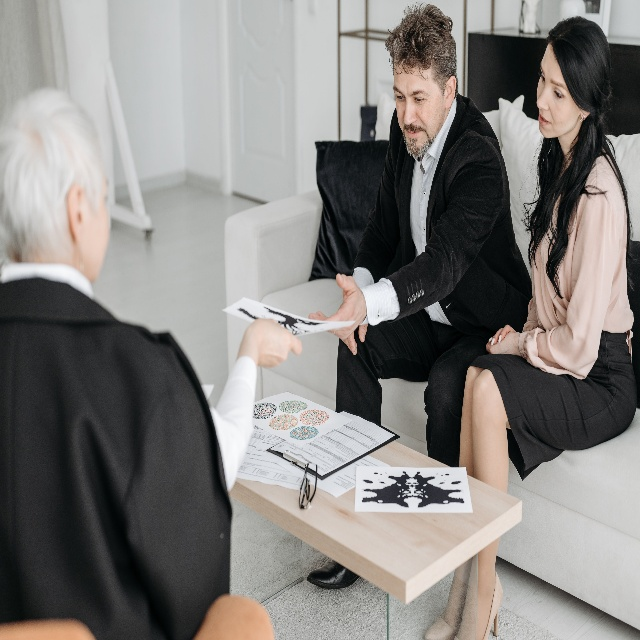Gafas: (298, 457, 319, 510)
Sin_guantes: (305, 269, 366, 338), (241, 311, 301, 373), (486, 321, 524, 356), (347, 324, 367, 361)
